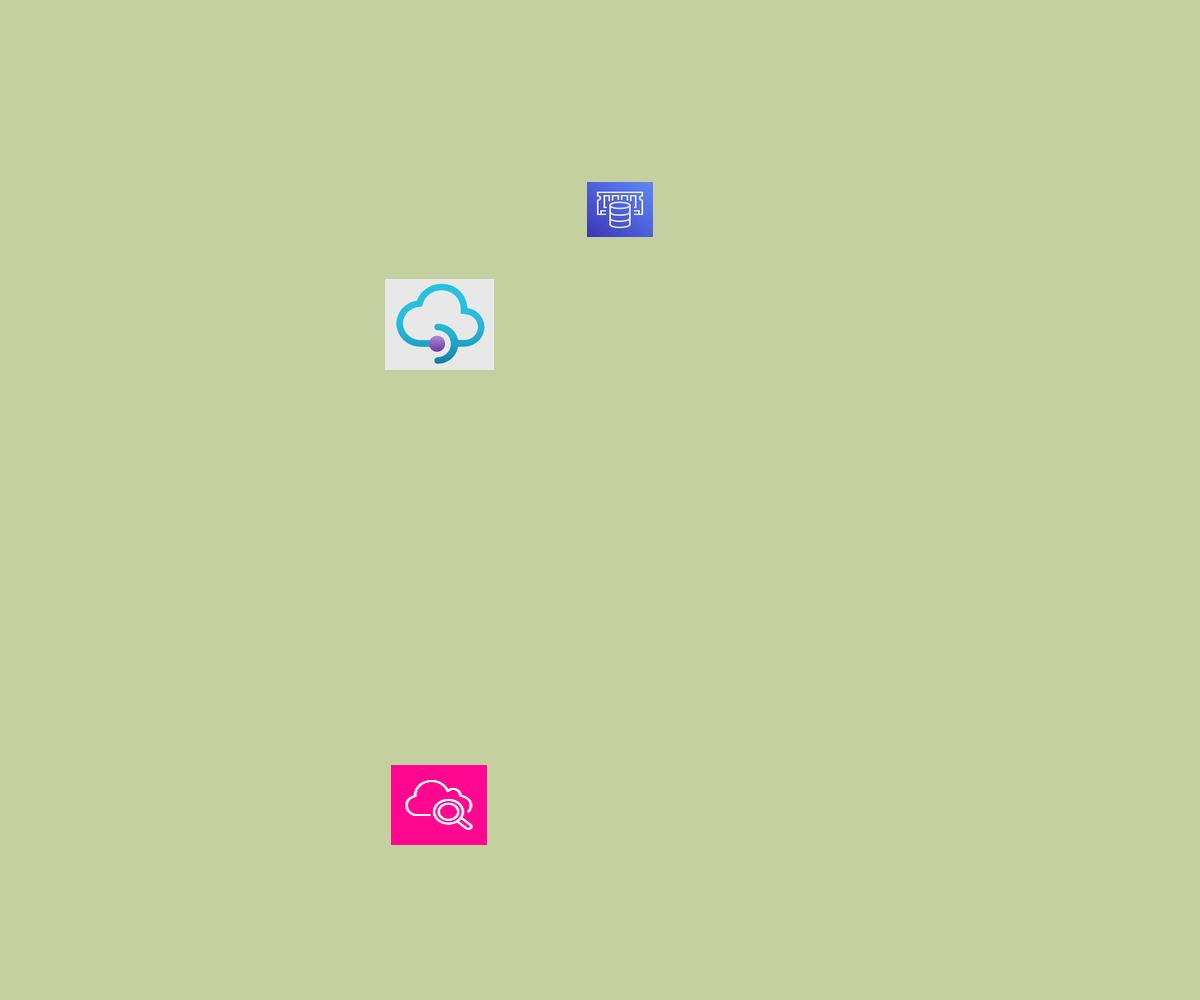AWS-CloudWatch: (391, 765, 487, 845)
AWS-ElastiCache: (587, 182, 653, 237)
Azure_api_gateway: (385, 279, 494, 370)
